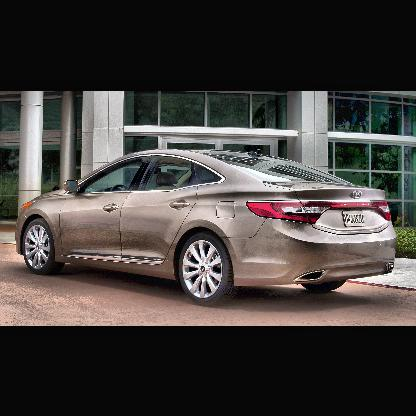Hyundai Azera Sedan 2012: (16, 147, 396, 308)
